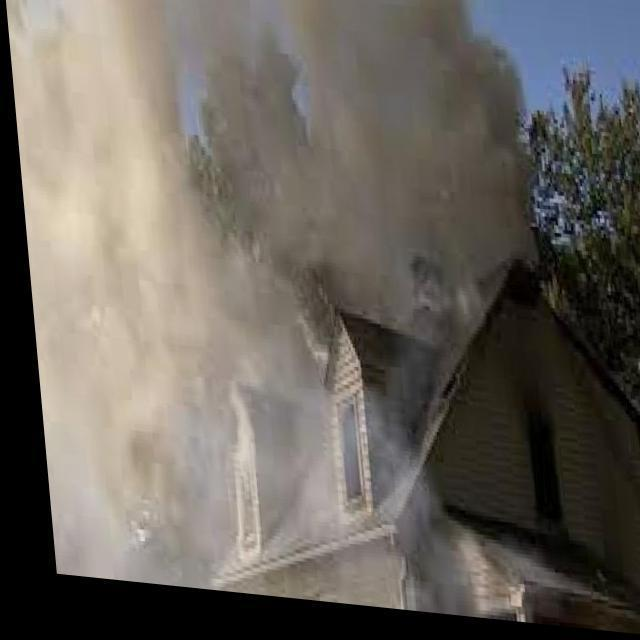Smoke: (0, 0, 576, 626)
